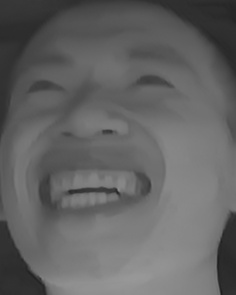eye: (128, 67, 176, 97), (24, 74, 73, 102)
mouth: (28, 148, 152, 217)
